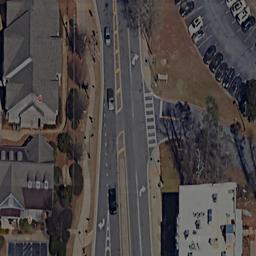Car: (198, 43, 247, 106), (170, 1, 212, 44), (221, 1, 256, 34), (103, 186, 114, 217), (103, 23, 114, 47), (108, 84, 113, 115)
Chevron: (114, 1, 126, 112), (117, 128, 126, 256), (103, 210, 113, 254)
Crosswalk: (147, 92, 156, 156)
Double Solid Yellow Line: (163, 113, 184, 124)
Right Turn Arrow: (96, 214, 106, 234), (137, 182, 146, 199), (130, 52, 139, 65)
Solid White Line: (125, 1, 132, 124), (134, 183, 144, 253)
Stop Line: (158, 99, 164, 116)
White Dashed Line: (105, 99, 109, 226)
